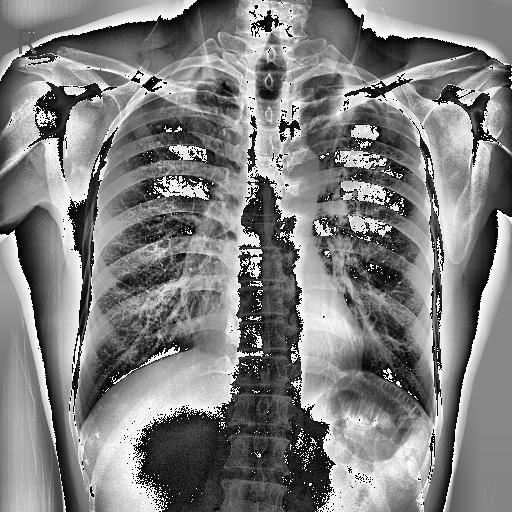11- Pleural thickening: (148, 57, 236, 86), (158, 61, 238, 86)
13- Pulmonary fibrosis: (311, 89, 427, 173), (308, 88, 416, 173), (139, 81, 221, 144), (157, 80, 230, 144), (332, 94, 400, 130), (161, 90, 192, 113)
